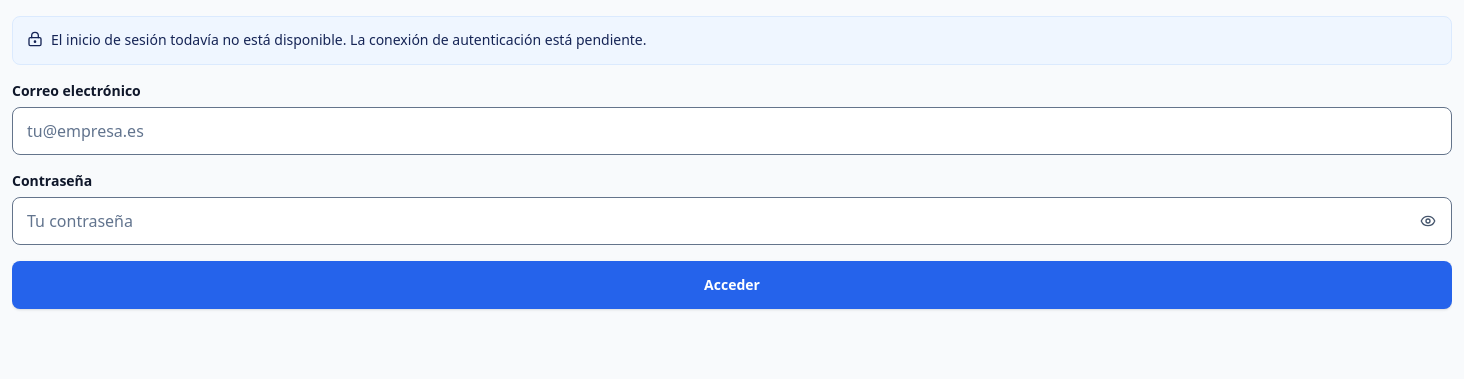
Test case: Formulario de acceso › muestra validaciones en español y alterna la visibilidad de la contraseña por teclado
Later steps or results of the test are not shown.
Step 1. Type "incorrecto" into the field labelled "Correo electrónico" → (732, 131), box [12,107,1452,155]
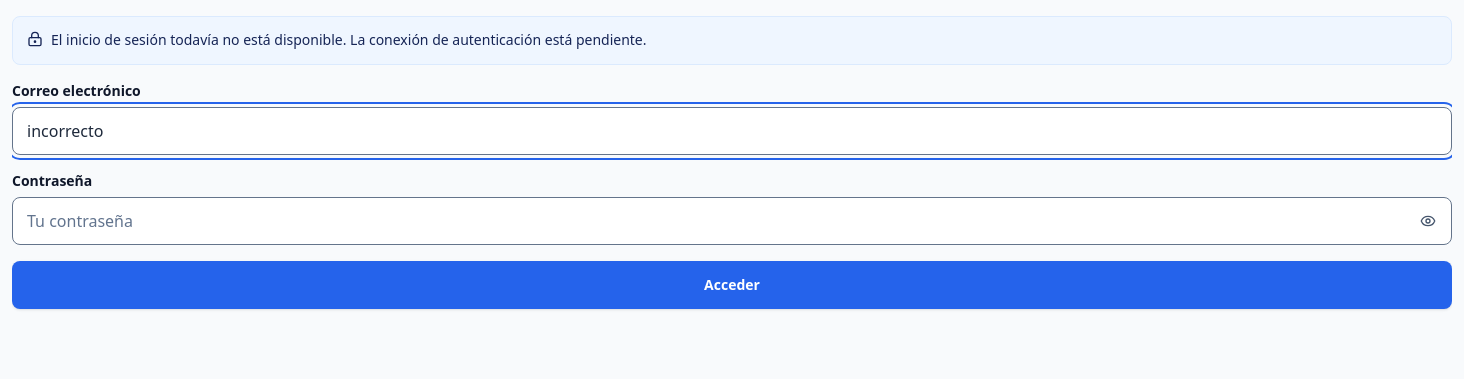
Step 2. Click the button "Acceder" → (732, 285), box [12,261,1452,309]
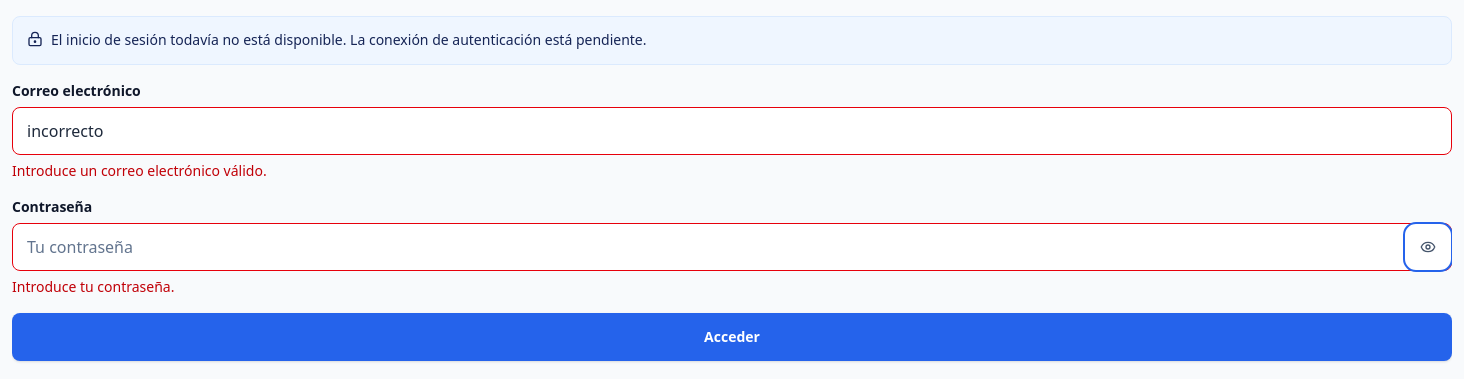
Check: the text "Introduce un correo electrónico válido." is shown, box [12,161,267,180]
